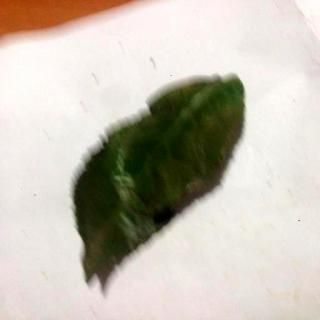Red Leaf Spot: (74, 76, 249, 283)
